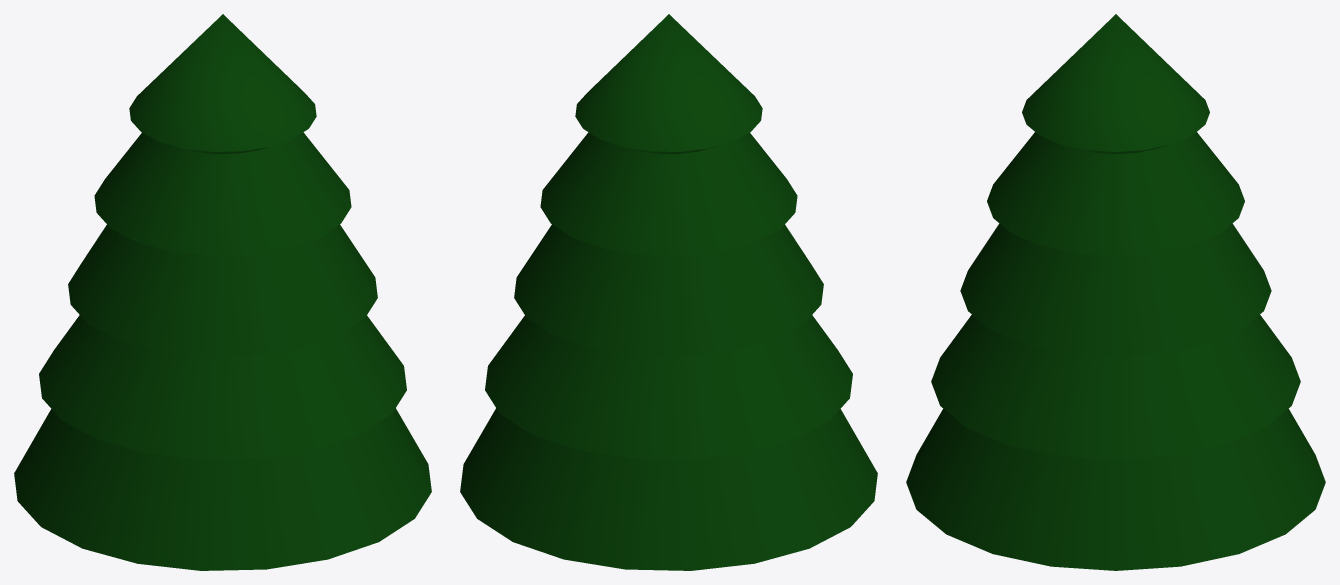
Rendered from pineTree.dae.
3 renders of one model, left to right at view 1: azimuth 30°, elevation 25°; view 2: azimuth 150°, elevation 25°; view 3: azimuth 270°, elevation 25°, orthographic.
Parts seen in each view (by area): view 1: pCylinder1; view 2: pCylinder1; view 3: pCylinder1.
Boxes of the visible parts, x1,y1,x2,y2 form: pCylinder1: [14, 14, 431, 570]; pCylinder1: [460, 14, 877, 570]; pCylinder1: [906, 14, 1325, 570].
Size of the model in its own units: 10.63 by 13.08 by 10.63.
